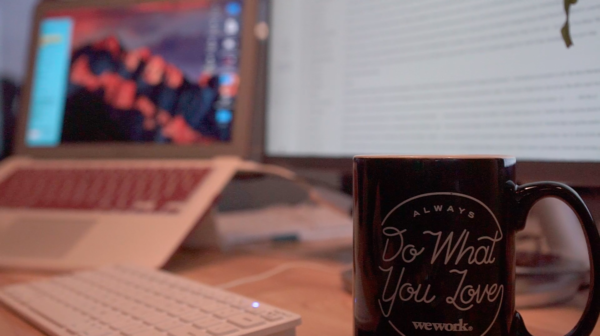wework: (409, 317, 468, 334)
